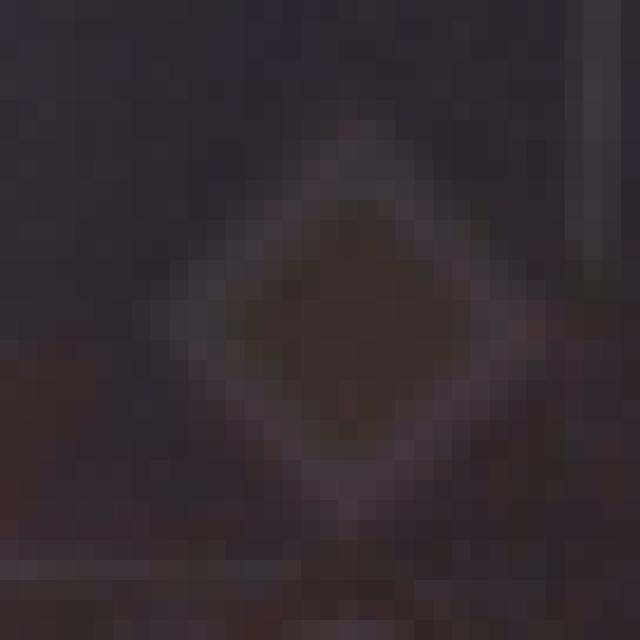Main Road: (114, 101, 547, 541)
